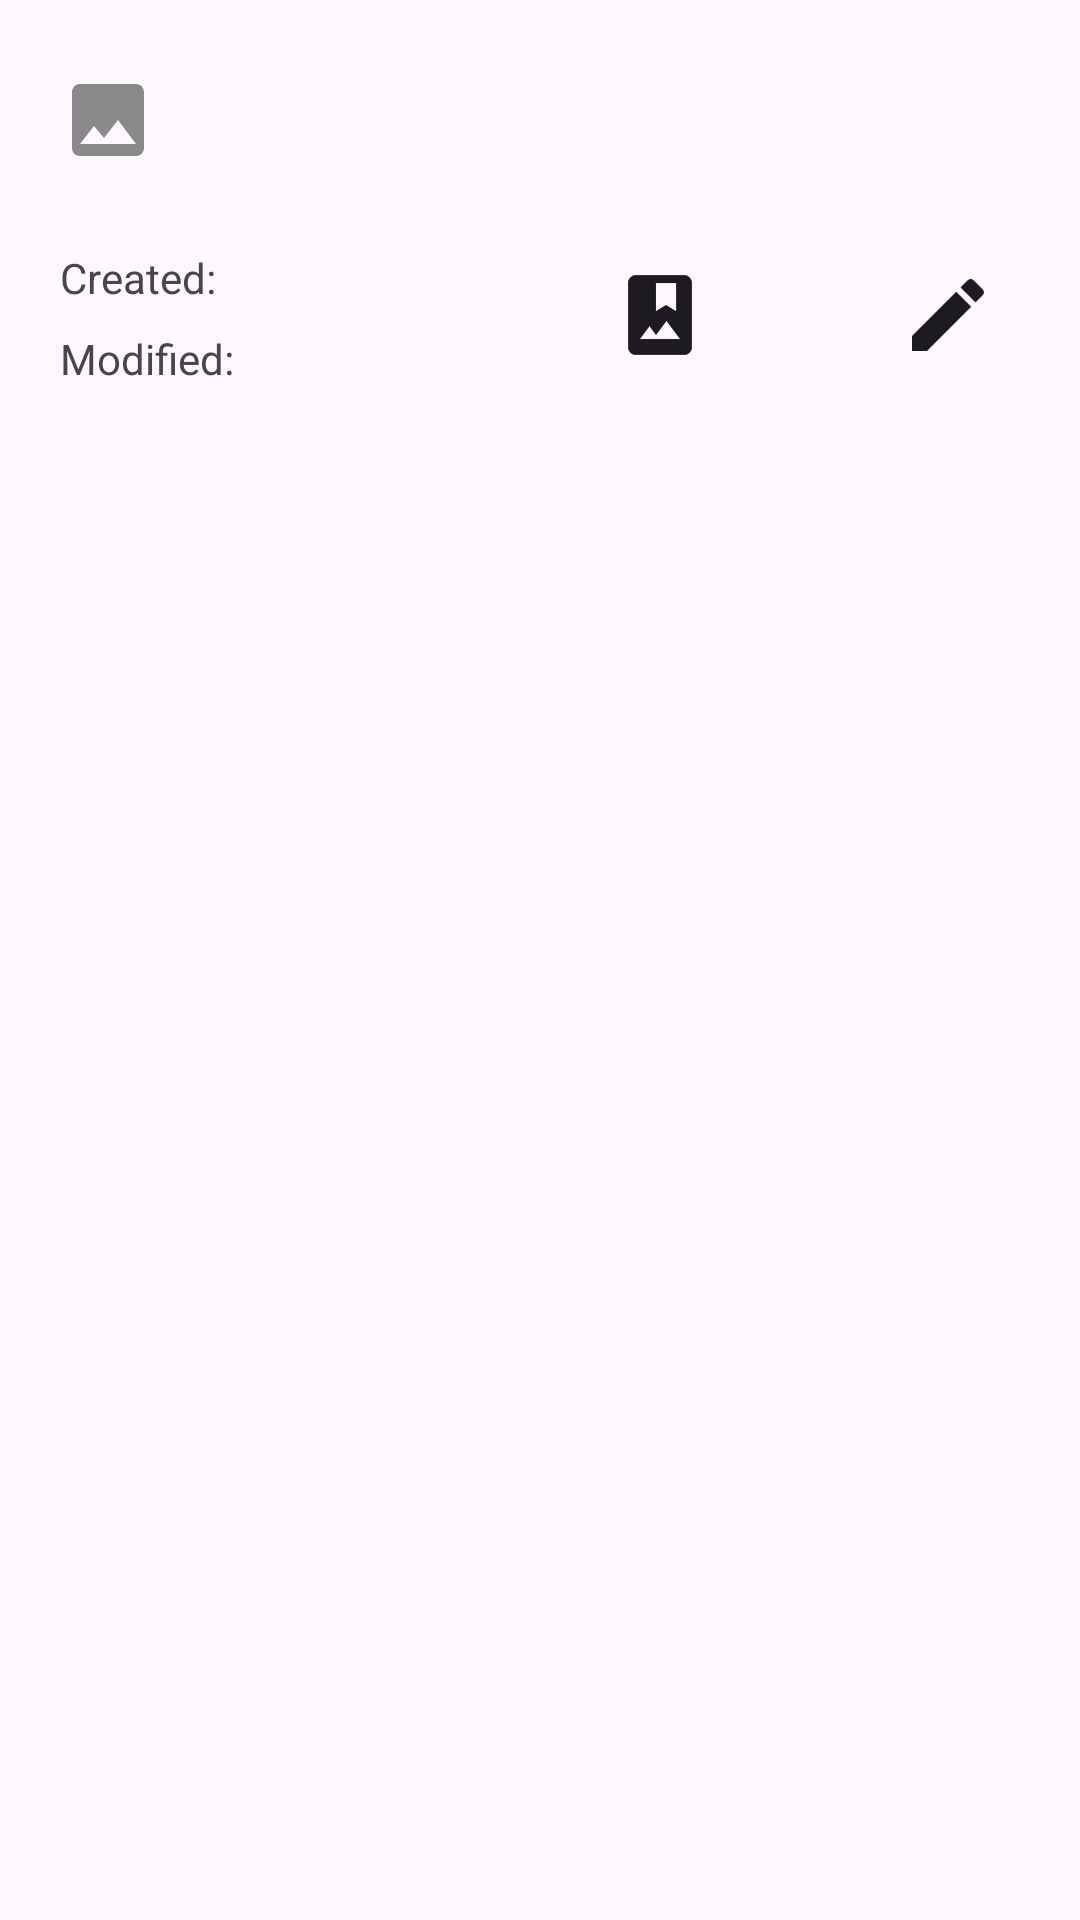

Screen size 1080px x 1920px. Icon name, then its center in pixels as (x,y):
Edit tags: (948,315)
set as cover: (660,315)
